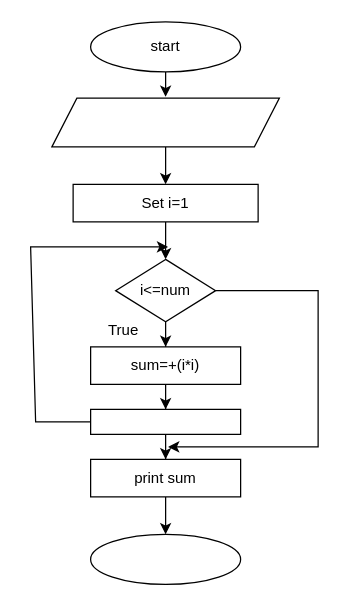
Some shapes in this 350 by 606 pixel diagram are drawn without their labels. The centre of each missing label's shape, as x and y in pixels:
end: (x=165, y=558)
i=+1: (x=165, y=421)
Read num, sum=0: (x=165, y=122)
